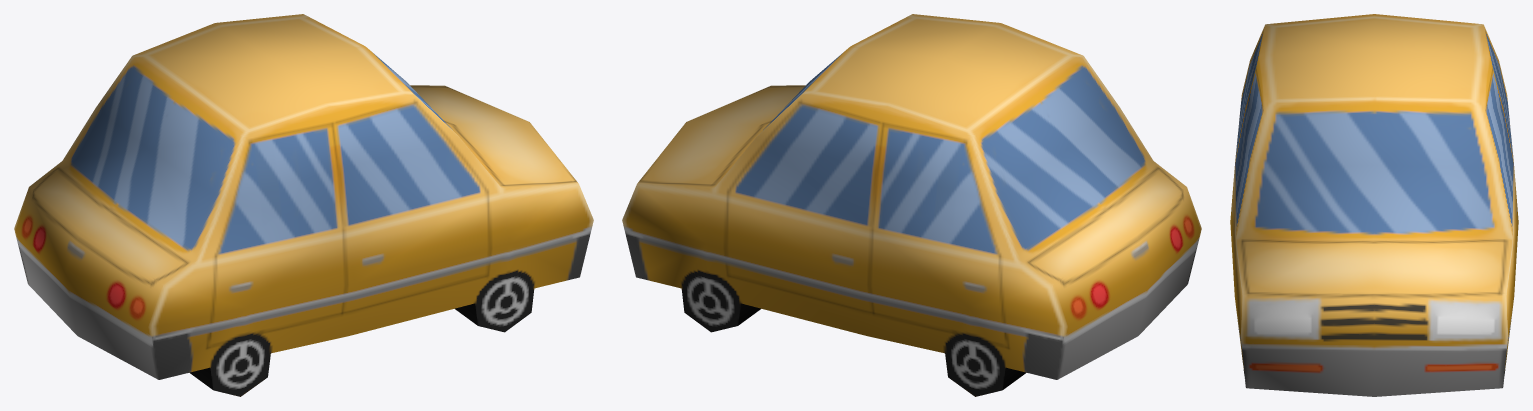
The model's file is Car.FBX.
3 renders of one model, left to right at view 1: azimuth 30°, elevation 25°; view 2: azimuth 150°, elevation 25°; view 3: azimuth 270°, elevation 25°, orthographic. The views are drawn at different scales.
Visible parts, largest first — view 1: Car; view 2: Car; view 3: Car.
Part boxes in pixels (left/top/right/bottom): Car: left=14, top=14, right=593, bottom=396; Car: left=622, top=14, right=1201, bottom=396; Car: left=1230, top=14, right=1518, bottom=396.
Bounding box in the file's own units: 84.95 × 44.95 × 45.18.
1 material, 1 textured.
